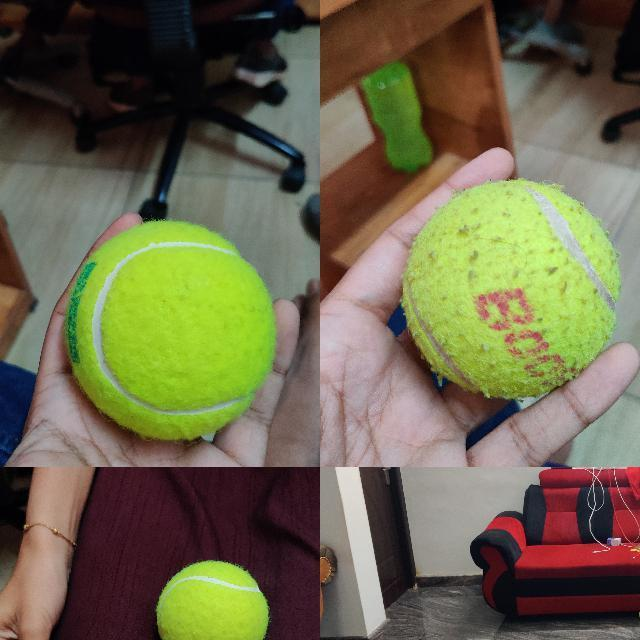tennis-ball: (402, 180, 620, 396), (64, 220, 276, 440), (156, 561, 268, 639)
